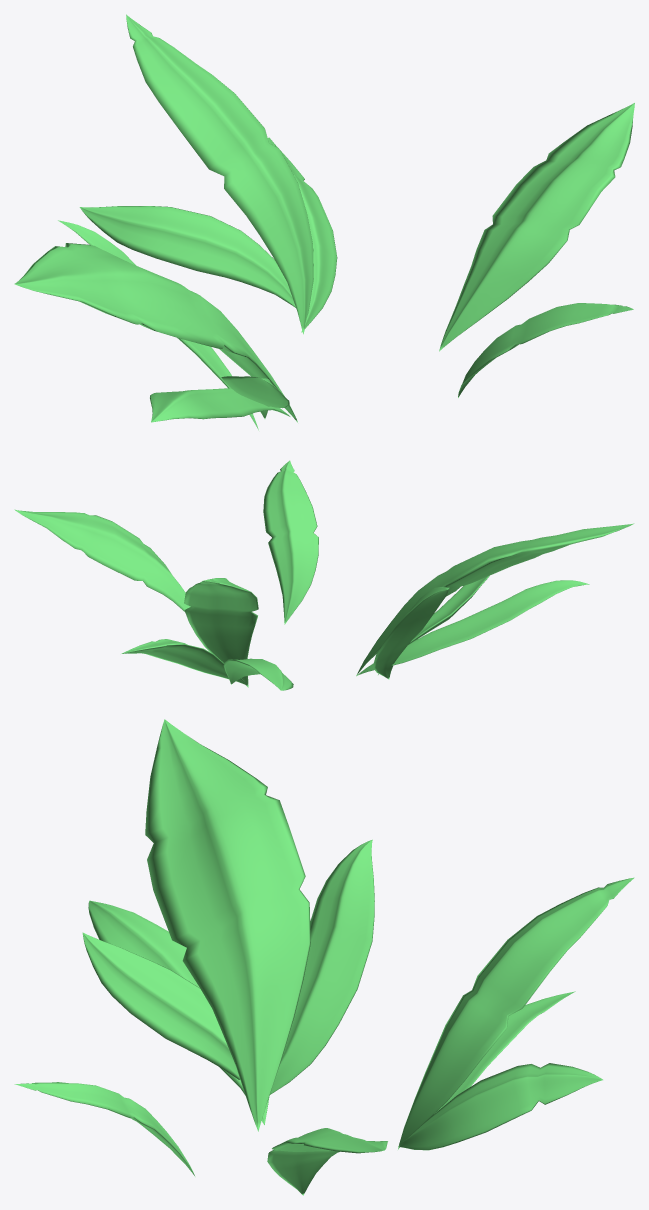
File: Plants.fbx
3 renders of one model, top to bottom at view 1: azimuth 30°, elevation 25°; view 2: azimuth 150°, elevation 25°; view 3: azimuth 270°, elevation 25°, orthographic. The views are drawn at different scales.
Parts seen in each view (by area): view 1: Leaves; view 2: Leaves; view 3: Leaves.
Part boxes in pixels (x1,y1,x2,y2): Leaves: (14,14,634,430); Leaves: (14,460,634,690); Leaves: (14,719,634,1195).
Size of the model in its own units: 465 by 161 by 345.
